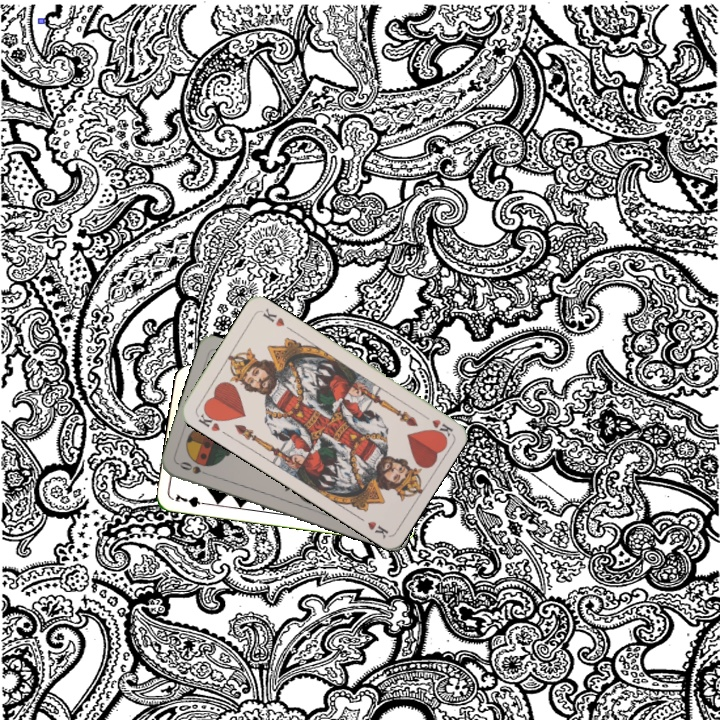G7: (171, 490, 211, 510)
HK: (417, 409, 455, 439), (193, 406, 224, 434)
SO: (175, 457, 214, 479)
